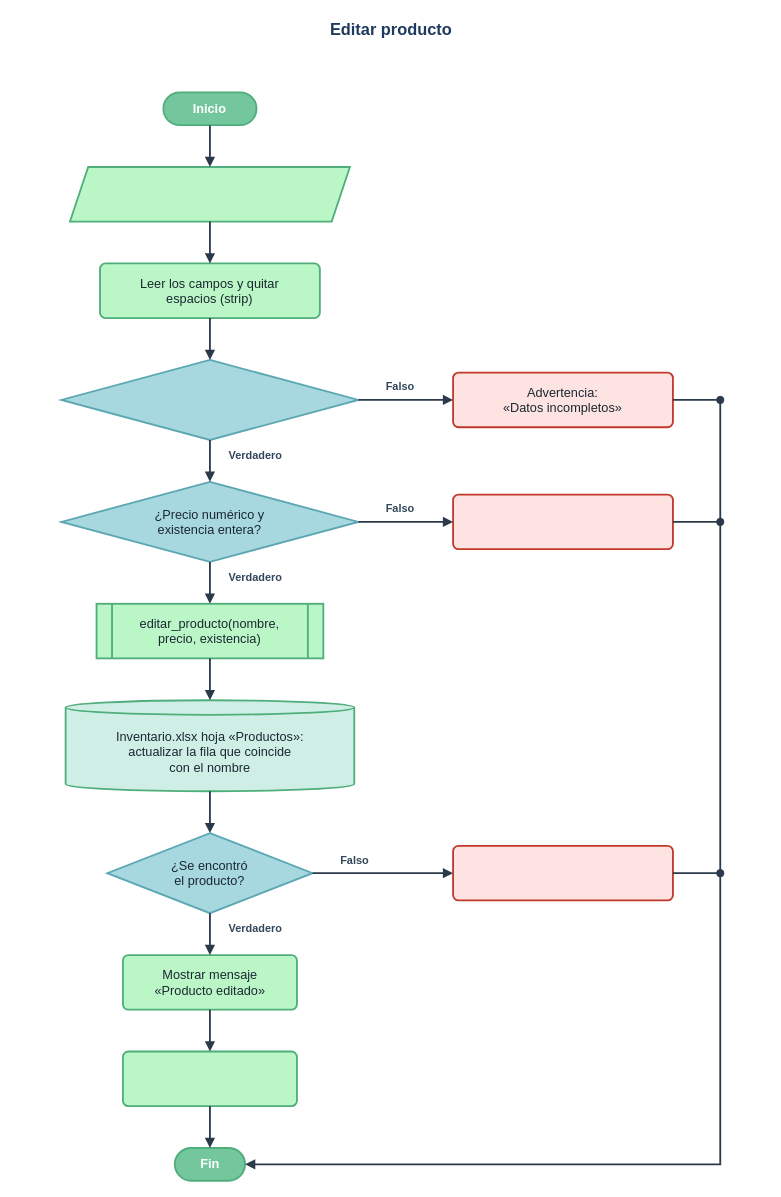
This 781x1197 diagram has some shape labels left out. The shapes that lost their labels are listed below. From the top down, each one's centre as x and y in pixels, then its label:
point 209,194: Ingresar nombre, nuevo precio y nueva existencia
point 209,399: ¿Nombre, precio y existencia llenos?
point 562,521: Advertencia: «Datos incorrectos»
point 562,872: Advertencia: «Producto no encontrado»
point 209,1078: limpiar() y cargar_productos()
